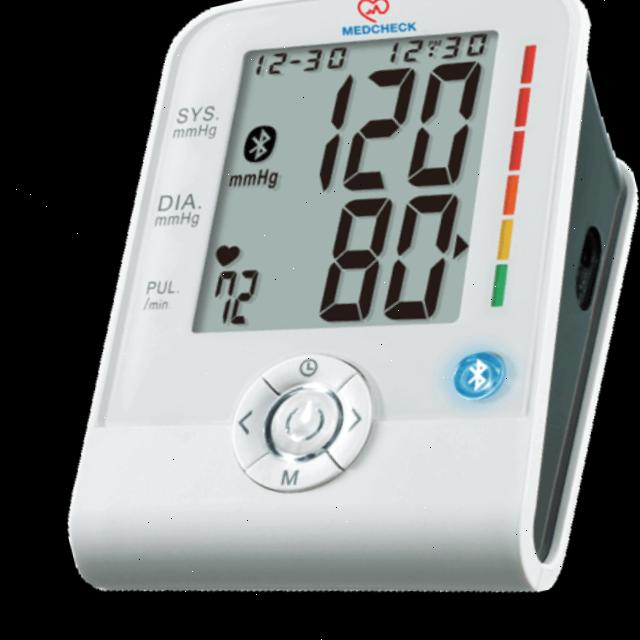dia: (292, 193, 475, 328)
pul: (192, 264, 267, 338)
ssd: (190, 0, 501, 375)
sys: (296, 64, 490, 195)
